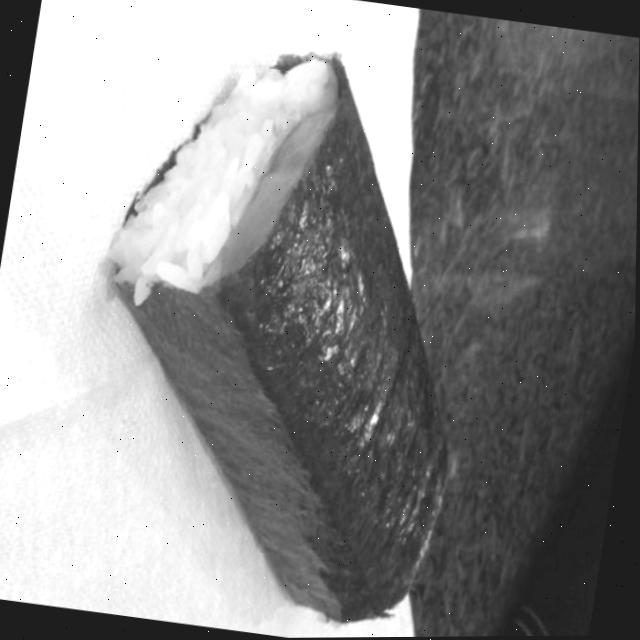寿司卷物: (38, 0, 568, 640)
